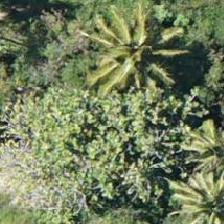coconut_tree: (123, 89, 213, 179), (81, 0, 171, 84), (79, 143, 169, 223), (161, 110, 223, 200), (0, 32, 47, 122), (159, 158, 223, 223), (160, 157, 223, 223)
